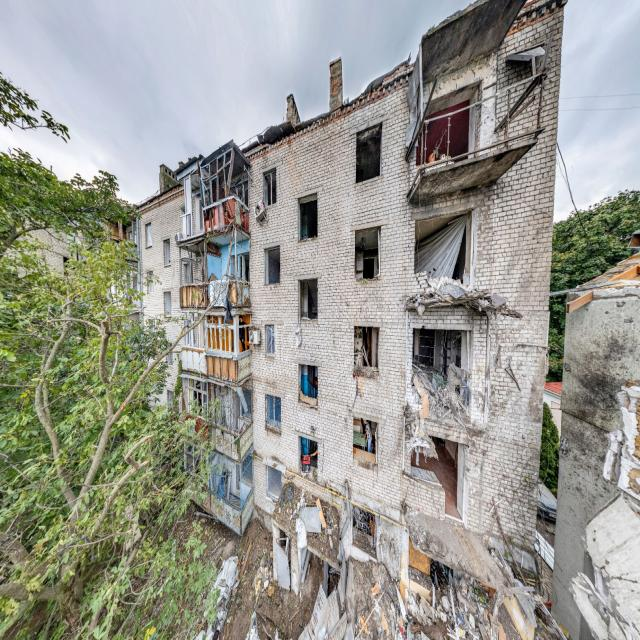broken_window: (355, 121, 382, 184), (354, 225, 380, 280), (353, 324, 379, 376), (352, 416, 378, 466), (298, 193, 318, 241), (298, 277, 318, 321), (298, 363, 318, 406), (298, 435, 318, 473), (264, 393, 281, 434), (264, 244, 280, 286)
